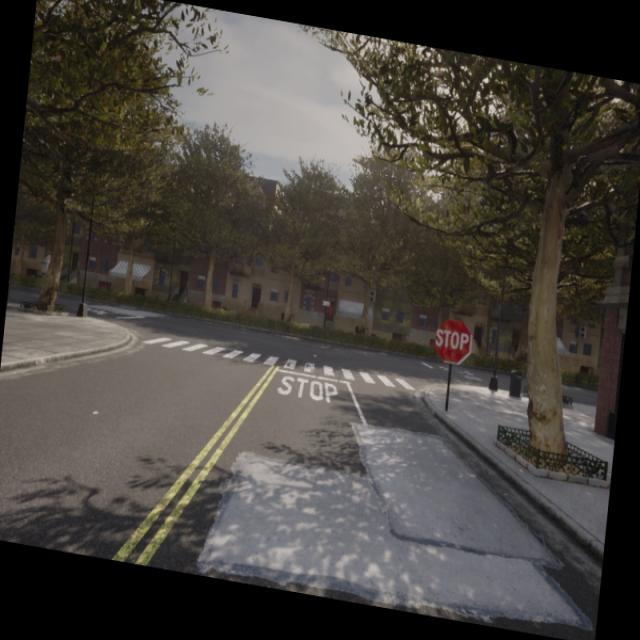stop sign: (431, 315, 474, 366)
